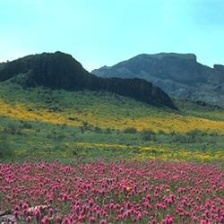neutral: (3, 5, 223, 223)
